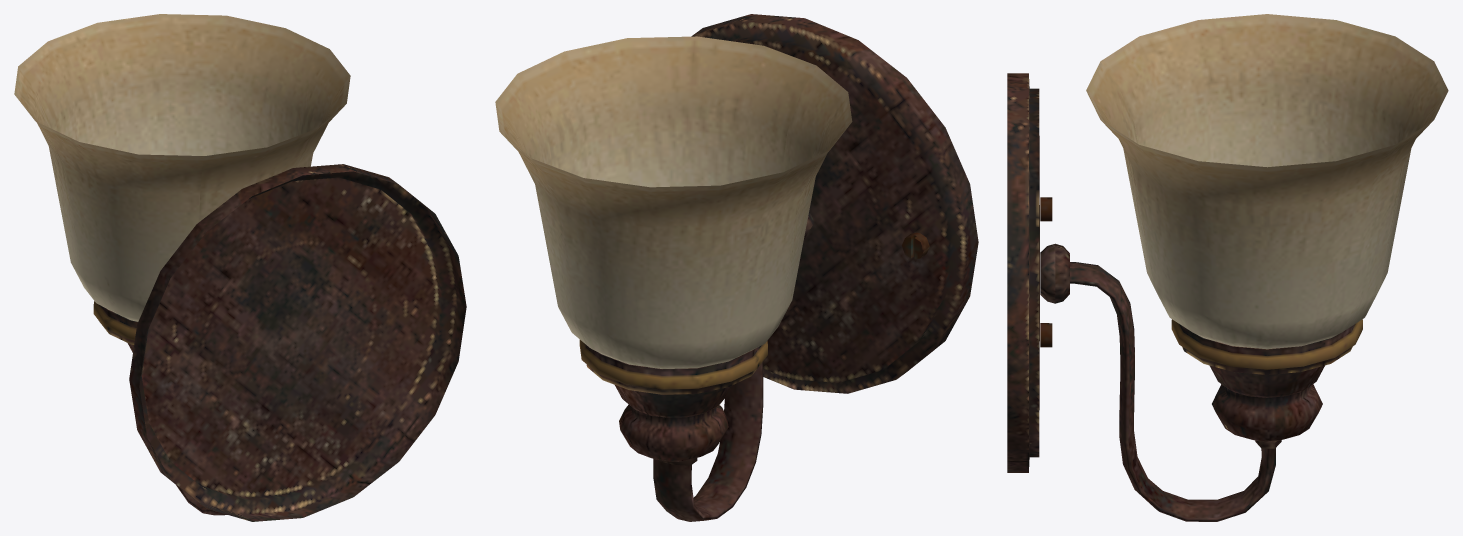
File: sm35_043_walllamp01a.fbx
3 renders of one model, left to right at view 1: azimuth 30°, elevation 25°; view 2: azimuth 150°, elevation 25°; view 3: azimuth 270°, elevation 25°, orthographic. The views are drawn at different scales.
Parts seen in each view (by area): view 1: LOD_1_Group_0_Sub_1__sm35_043_WallLamp01A_A_Mat, LOD_1_Group_0_Sub_2__sm35_043_WallLamp01A_A_Mat__Env_Emissiv; view 2: LOD_1_Group_0_Sub_2__sm35_043_WallLamp01A_A_Mat__Env_Emissiv, LOD_1_Group_0_Sub_1__sm35_043_WallLamp01A_A_Mat; view 3: LOD_1_Group_0_Sub_2__sm35_043_WallLamp01A_A_Mat__Env_Emissiv, LOD_1_Group_0_Sub_1__sm35_043_WallLamp01A_A_Mat.
Boxes of the visible parts, bbox=[...] form: LOD_1_Group_0_Sub_1__sm35_043_WallLamp01A_A_Mat: bbox=[93, 164, 466, 521]; LOD_1_Group_0_Sub_2__sm35_043_WallLamp01A_A_Mat__Env_Emissiv: bbox=[14, 14, 350, 321]; LOD_1_Group_0_Sub_2__sm35_043_WallLamp01A_A_Mat__Env_Emissiv: bbox=[495, 36, 852, 368]; LOD_1_Group_0_Sub_1__sm35_043_WallLamp01A_A_Mat: bbox=[579, 14, 978, 521]; LOD_1_Group_0_Sub_2__sm35_043_WallLamp01A_A_Mat__Env_Emissiv: bbox=[1086, 14, 1448, 349]; LOD_1_Group_0_Sub_1__sm35_043_WallLamp01A_A_Mat: bbox=[1007, 73, 1362, 521].
Bounding box in the file's own units: 0.3091 × 0.3618 × 0.3387.
